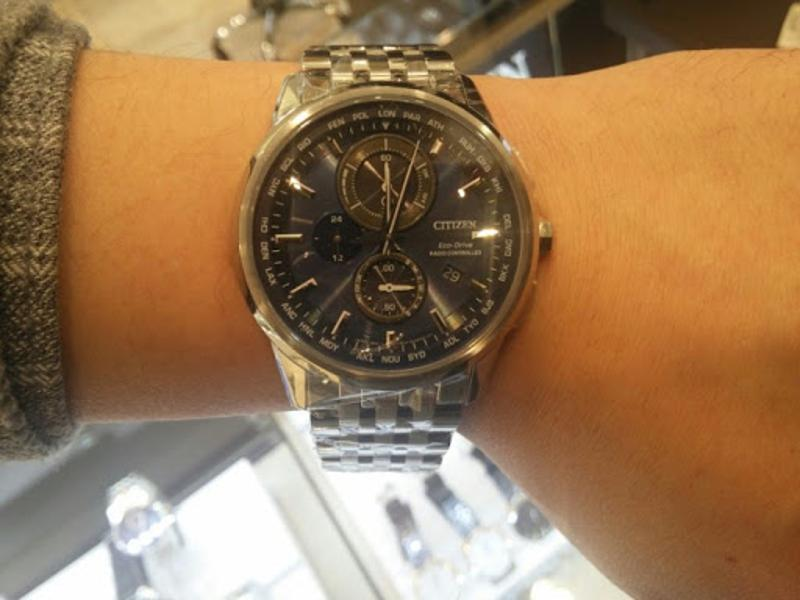watch: (241, 40, 558, 474)
